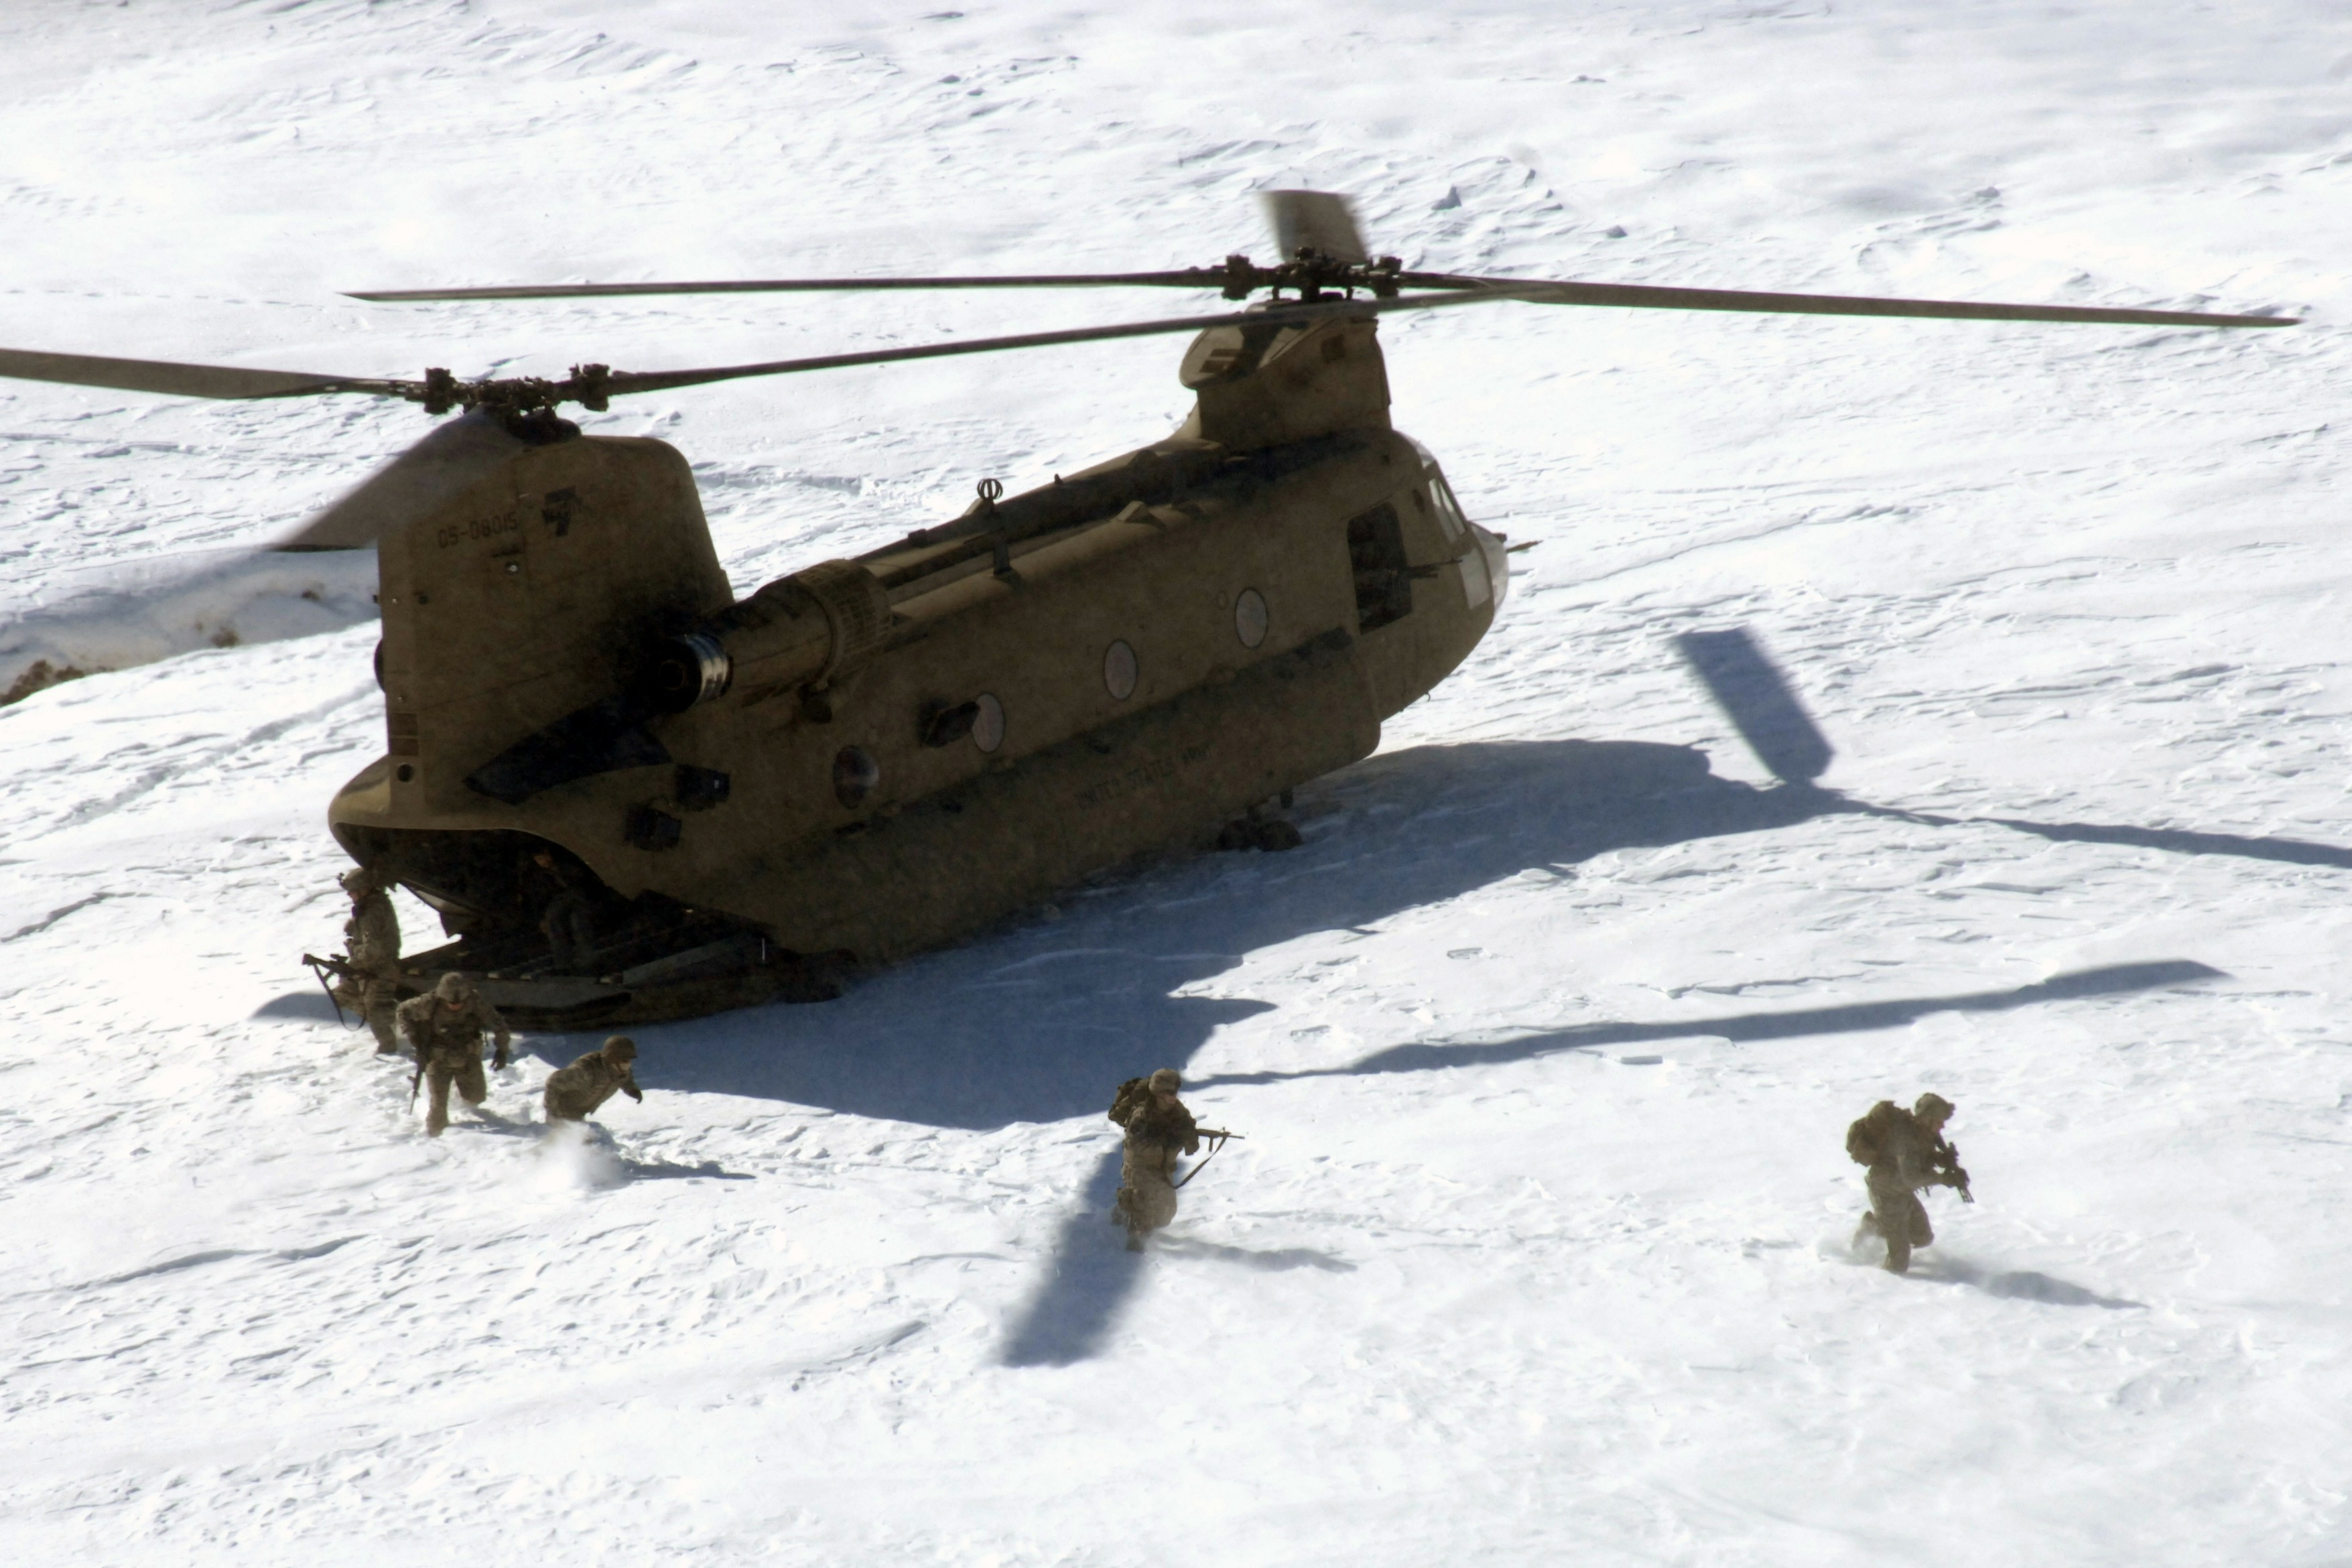chinook: (143, 219, 1883, 1024)
